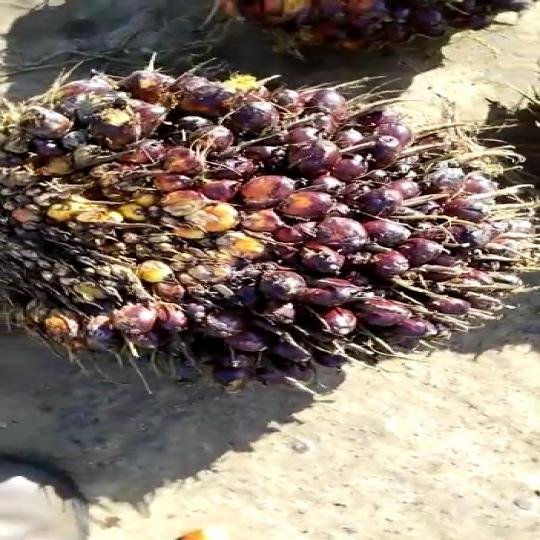kurang masak: (0, 44, 512, 401)
